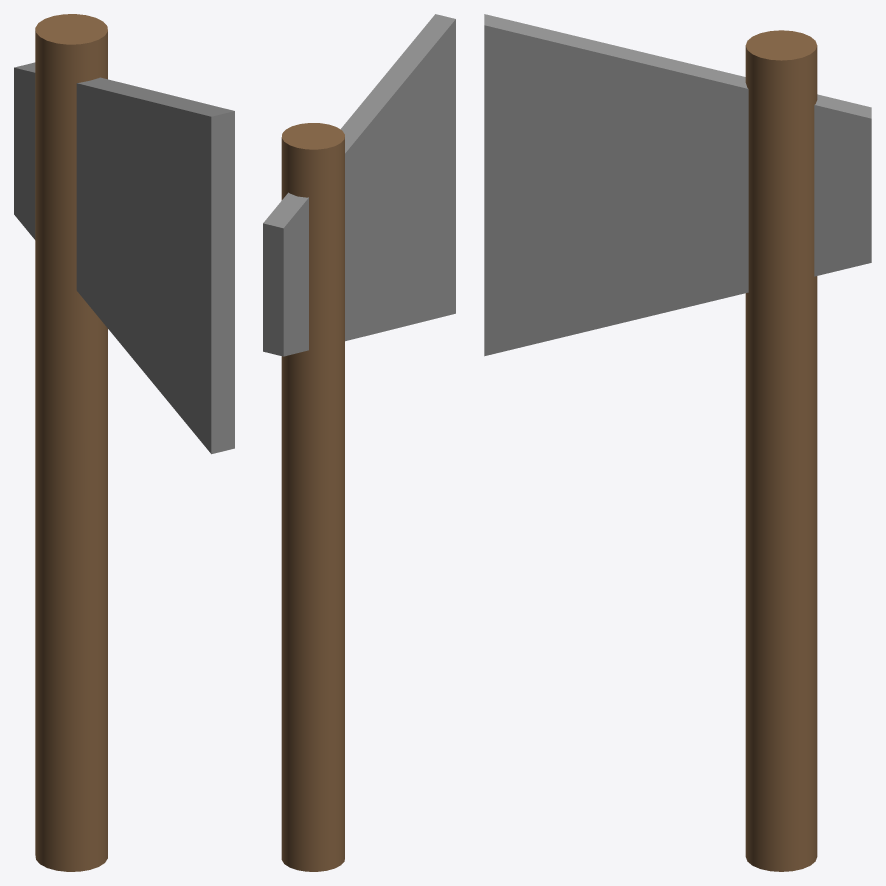
The model's file is Axe.fbx.
3 renders of one model, left to right at view 1: azimuth 30°, elevation 25°; view 2: azimuth 150°, elevation 25°; view 3: azimuth 270°, elevation 25°, orthographic. The views are drawn at different scales.
Parts seen in each view (by area): view 1: polySurface108, polySurface109; view 2: polySurface108, polySurface109; view 3: polySurface109, polySurface108.
Part boxes in pixels (<box>): polySurface108: <box>35,14,107,871</box>; polySurface109: <box>14,62,234,454</box>; polySurface108: <box>281,123,344,871</box>; polySurface109: <box>263,14,455,356</box>; polySurface109: <box>484,14,871,356</box>; polySurface108: <box>745,30,817,871</box>.
Bounding box in the file's own units: 0.358 × 4.62 × 1.94.
